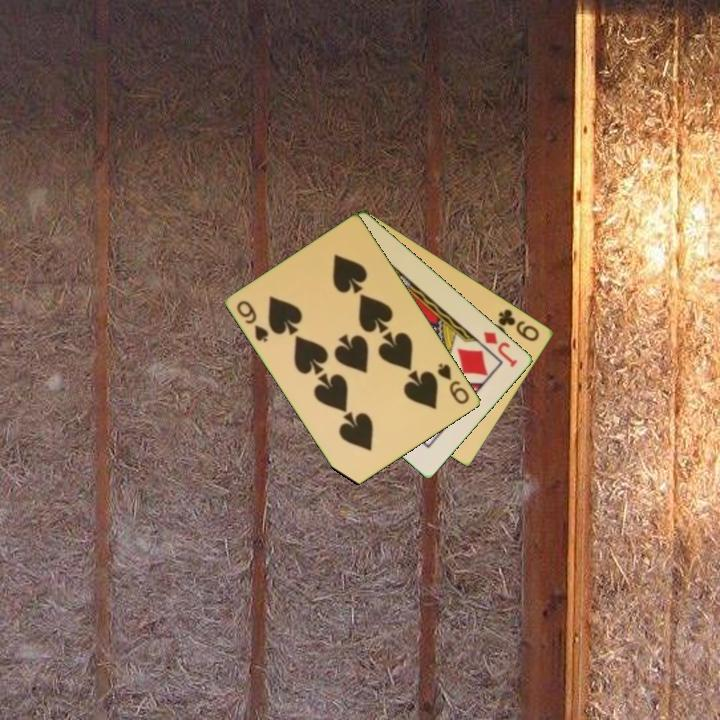9c: (495, 305, 543, 344)
9s: (233, 297, 272, 345), (434, 360, 473, 407)
Jd: (480, 328, 521, 370)
